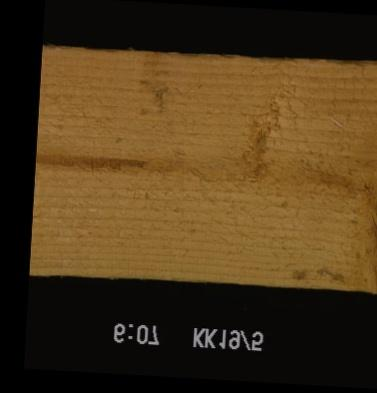small_knot: (239, 157, 269, 185)
